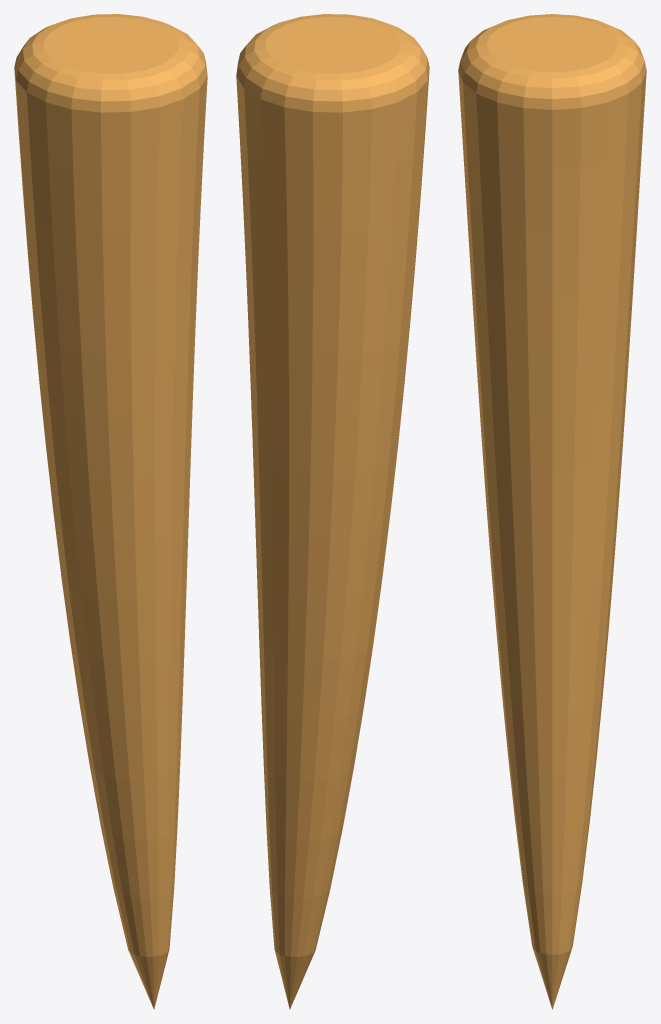
The model's file is carrot_v20.glb.
The picture shows the model from 3 angles, left to right: view 1: azimuth 30°, elevation 25°; view 2: azimuth 150°, elevation 25°; view 3: azimuth 270°, elevation 25°; orthographic projection. The views are drawn at different scales.
Visible parts, largest first — view 1: root; view 2: root; view 3: root.
Boxes of the visible parts, box(x1,y1,x2,y2) form: root: box(14, 14, 207, 1009); root: box(236, 14, 429, 1009); root: box(458, 14, 646, 1009).
Bounding box in the file's own units: 0.0353 × 0.1953 × 0.0353.
